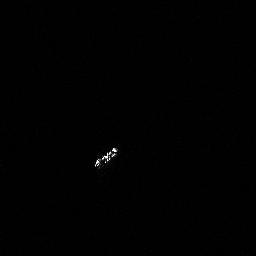ship: (91, 143, 121, 171)
